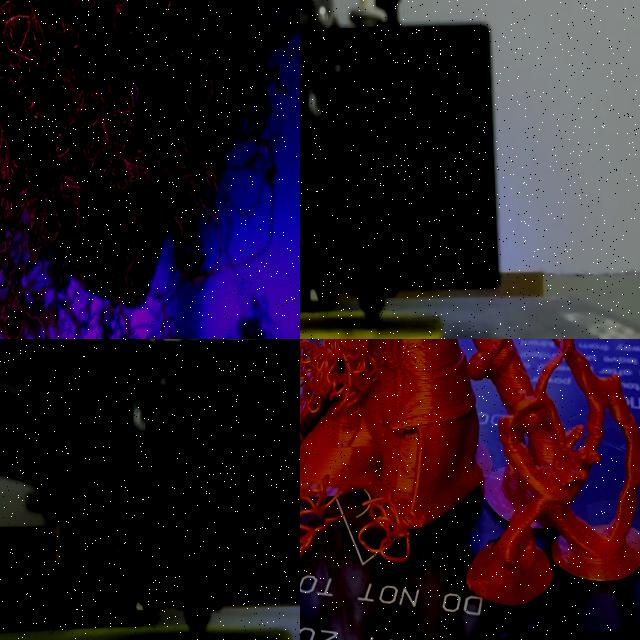spaghetti: (0, 0, 300, 339), (300, 339, 392, 457), (358, 484, 424, 582), (300, 450, 340, 577)
